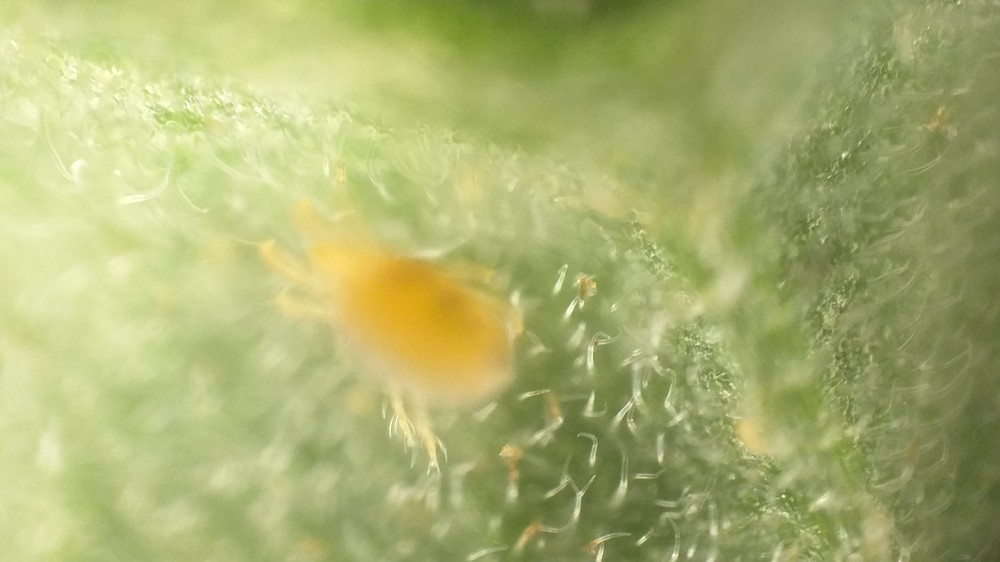Aracnido Rojo: (250, 198, 572, 473)
